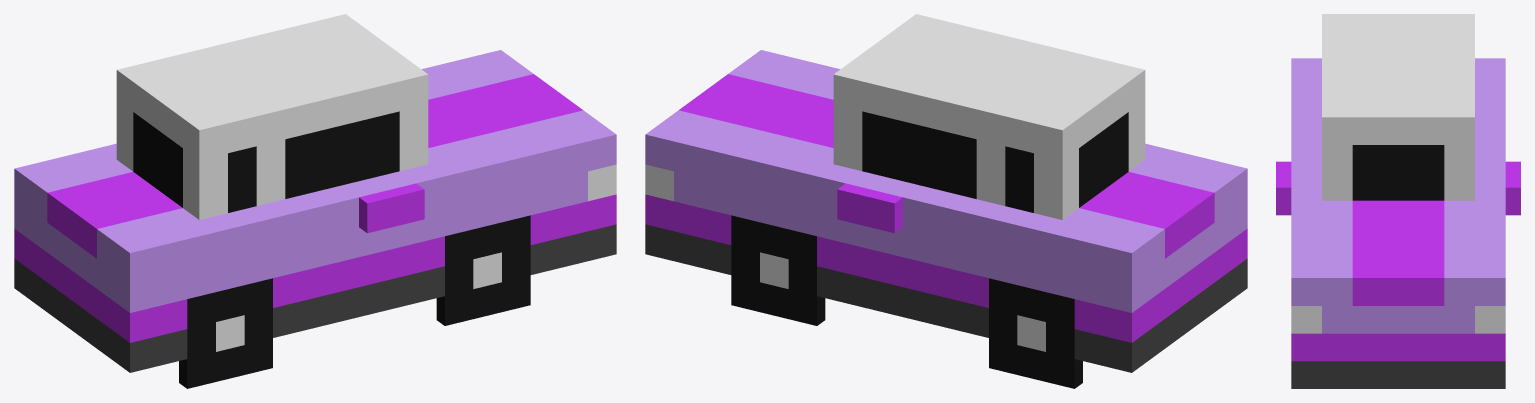
Rendered from roady_cross_assets-6.obj.
3 renders of one model, left to right at view 1: azimuth 30°, elevation 25°; view 2: azimuth 150°, elevation 25°; view 3: azimuth 270°, elevation 25°, orthographic. The views are drawn at different scales.
Size of the model in its own units: 3.4 by 1.6 by 1.6.
1 material, 1 textured.
